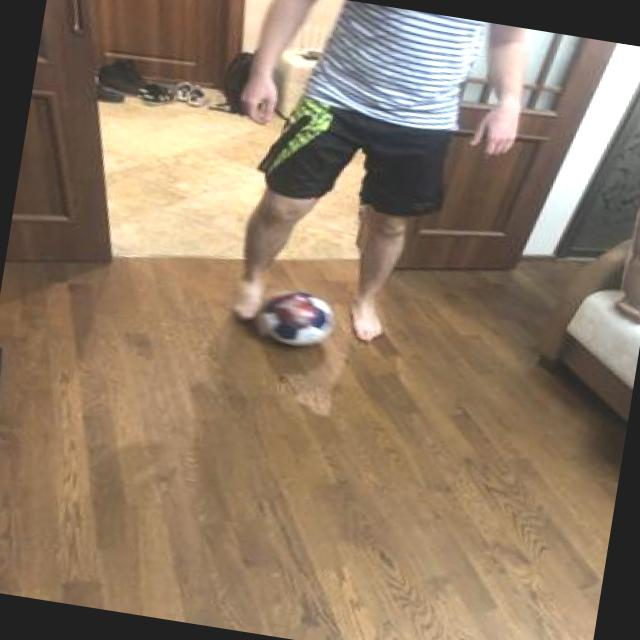Soccer Ball: (250, 283, 335, 350)
